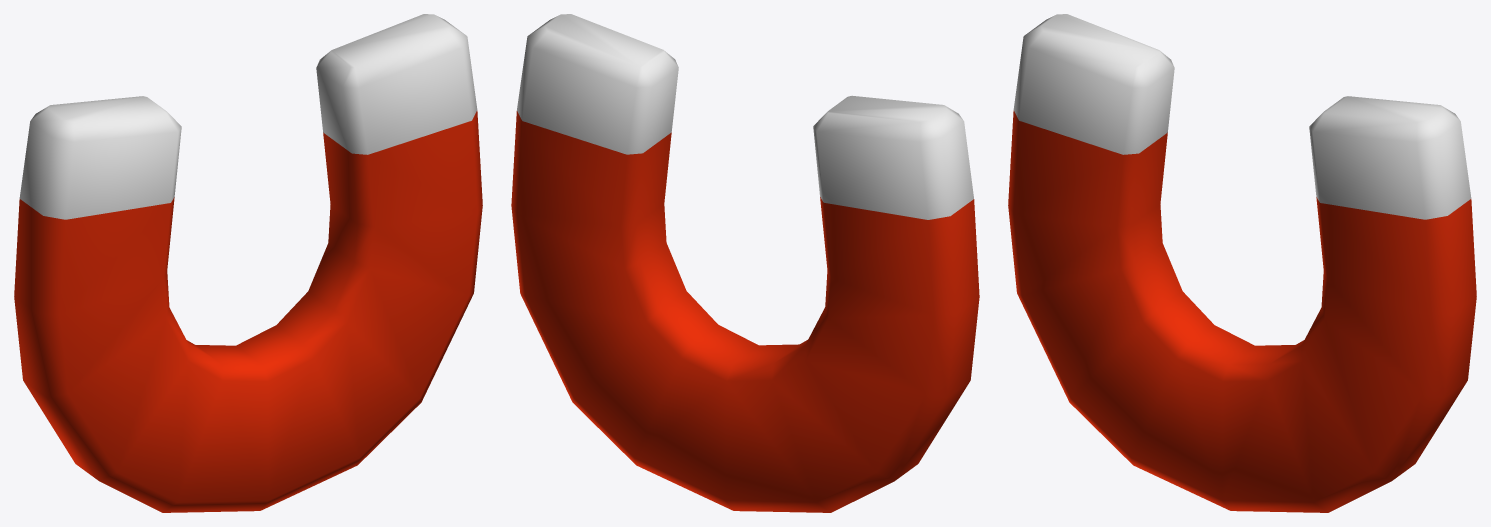
The model's file is Magnet.fbx.
The picture shows the model from 3 angles, left to right: view 1: azimuth 30°, elevation 25°; view 2: azimuth 150°, elevation 25°; view 3: azimuth 330°, elevation 25°; orthographic projection.
Visible parts, largest first — view 1: magnet; view 2: magnet; view 3: magnet.
Boxes of the visible parts, x1,y1,x2,y2 form: magnet: (14,14,482,512); magnet: (511,14,979,512); magnet: (1008,14,1476,512).
Bounding box in the file's own units: 119 × 111 × 19.05.
